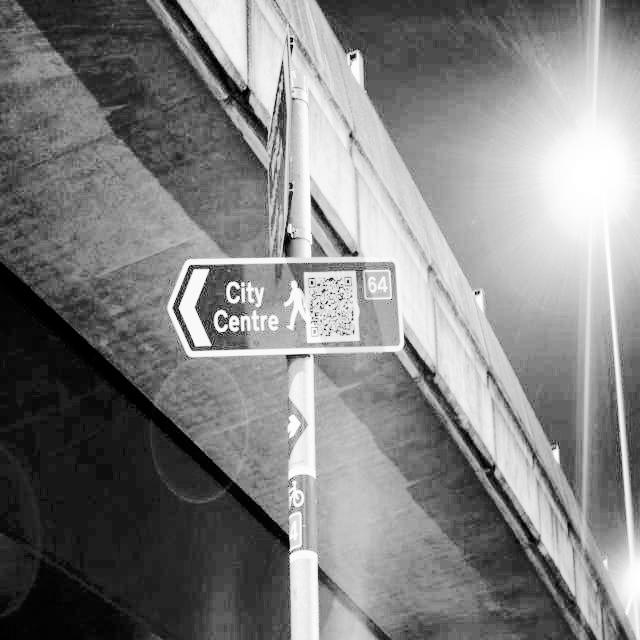qr_code: (308, 277, 355, 337)
